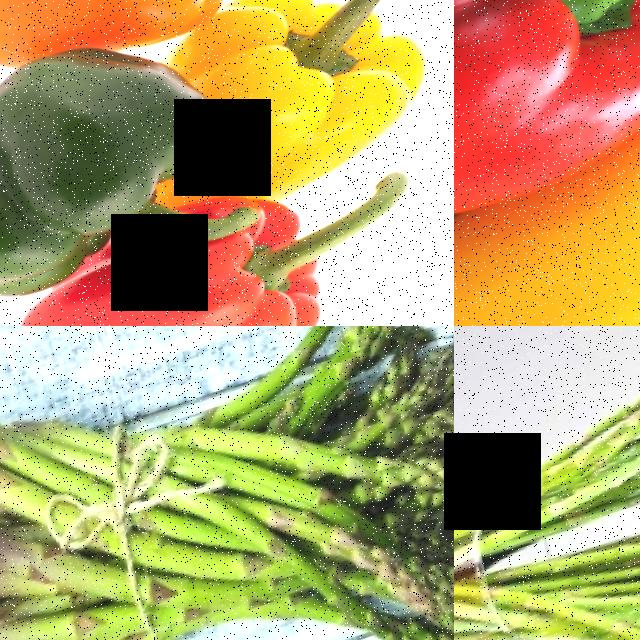asparagus: (115, 336, 454, 552), (159, 503, 454, 640)
bell pepper: (0, 164, 454, 326), (0, 21, 222, 326), (169, 0, 454, 219), (454, 0, 640, 244), (454, 122, 640, 326), (0, 0, 305, 80)
